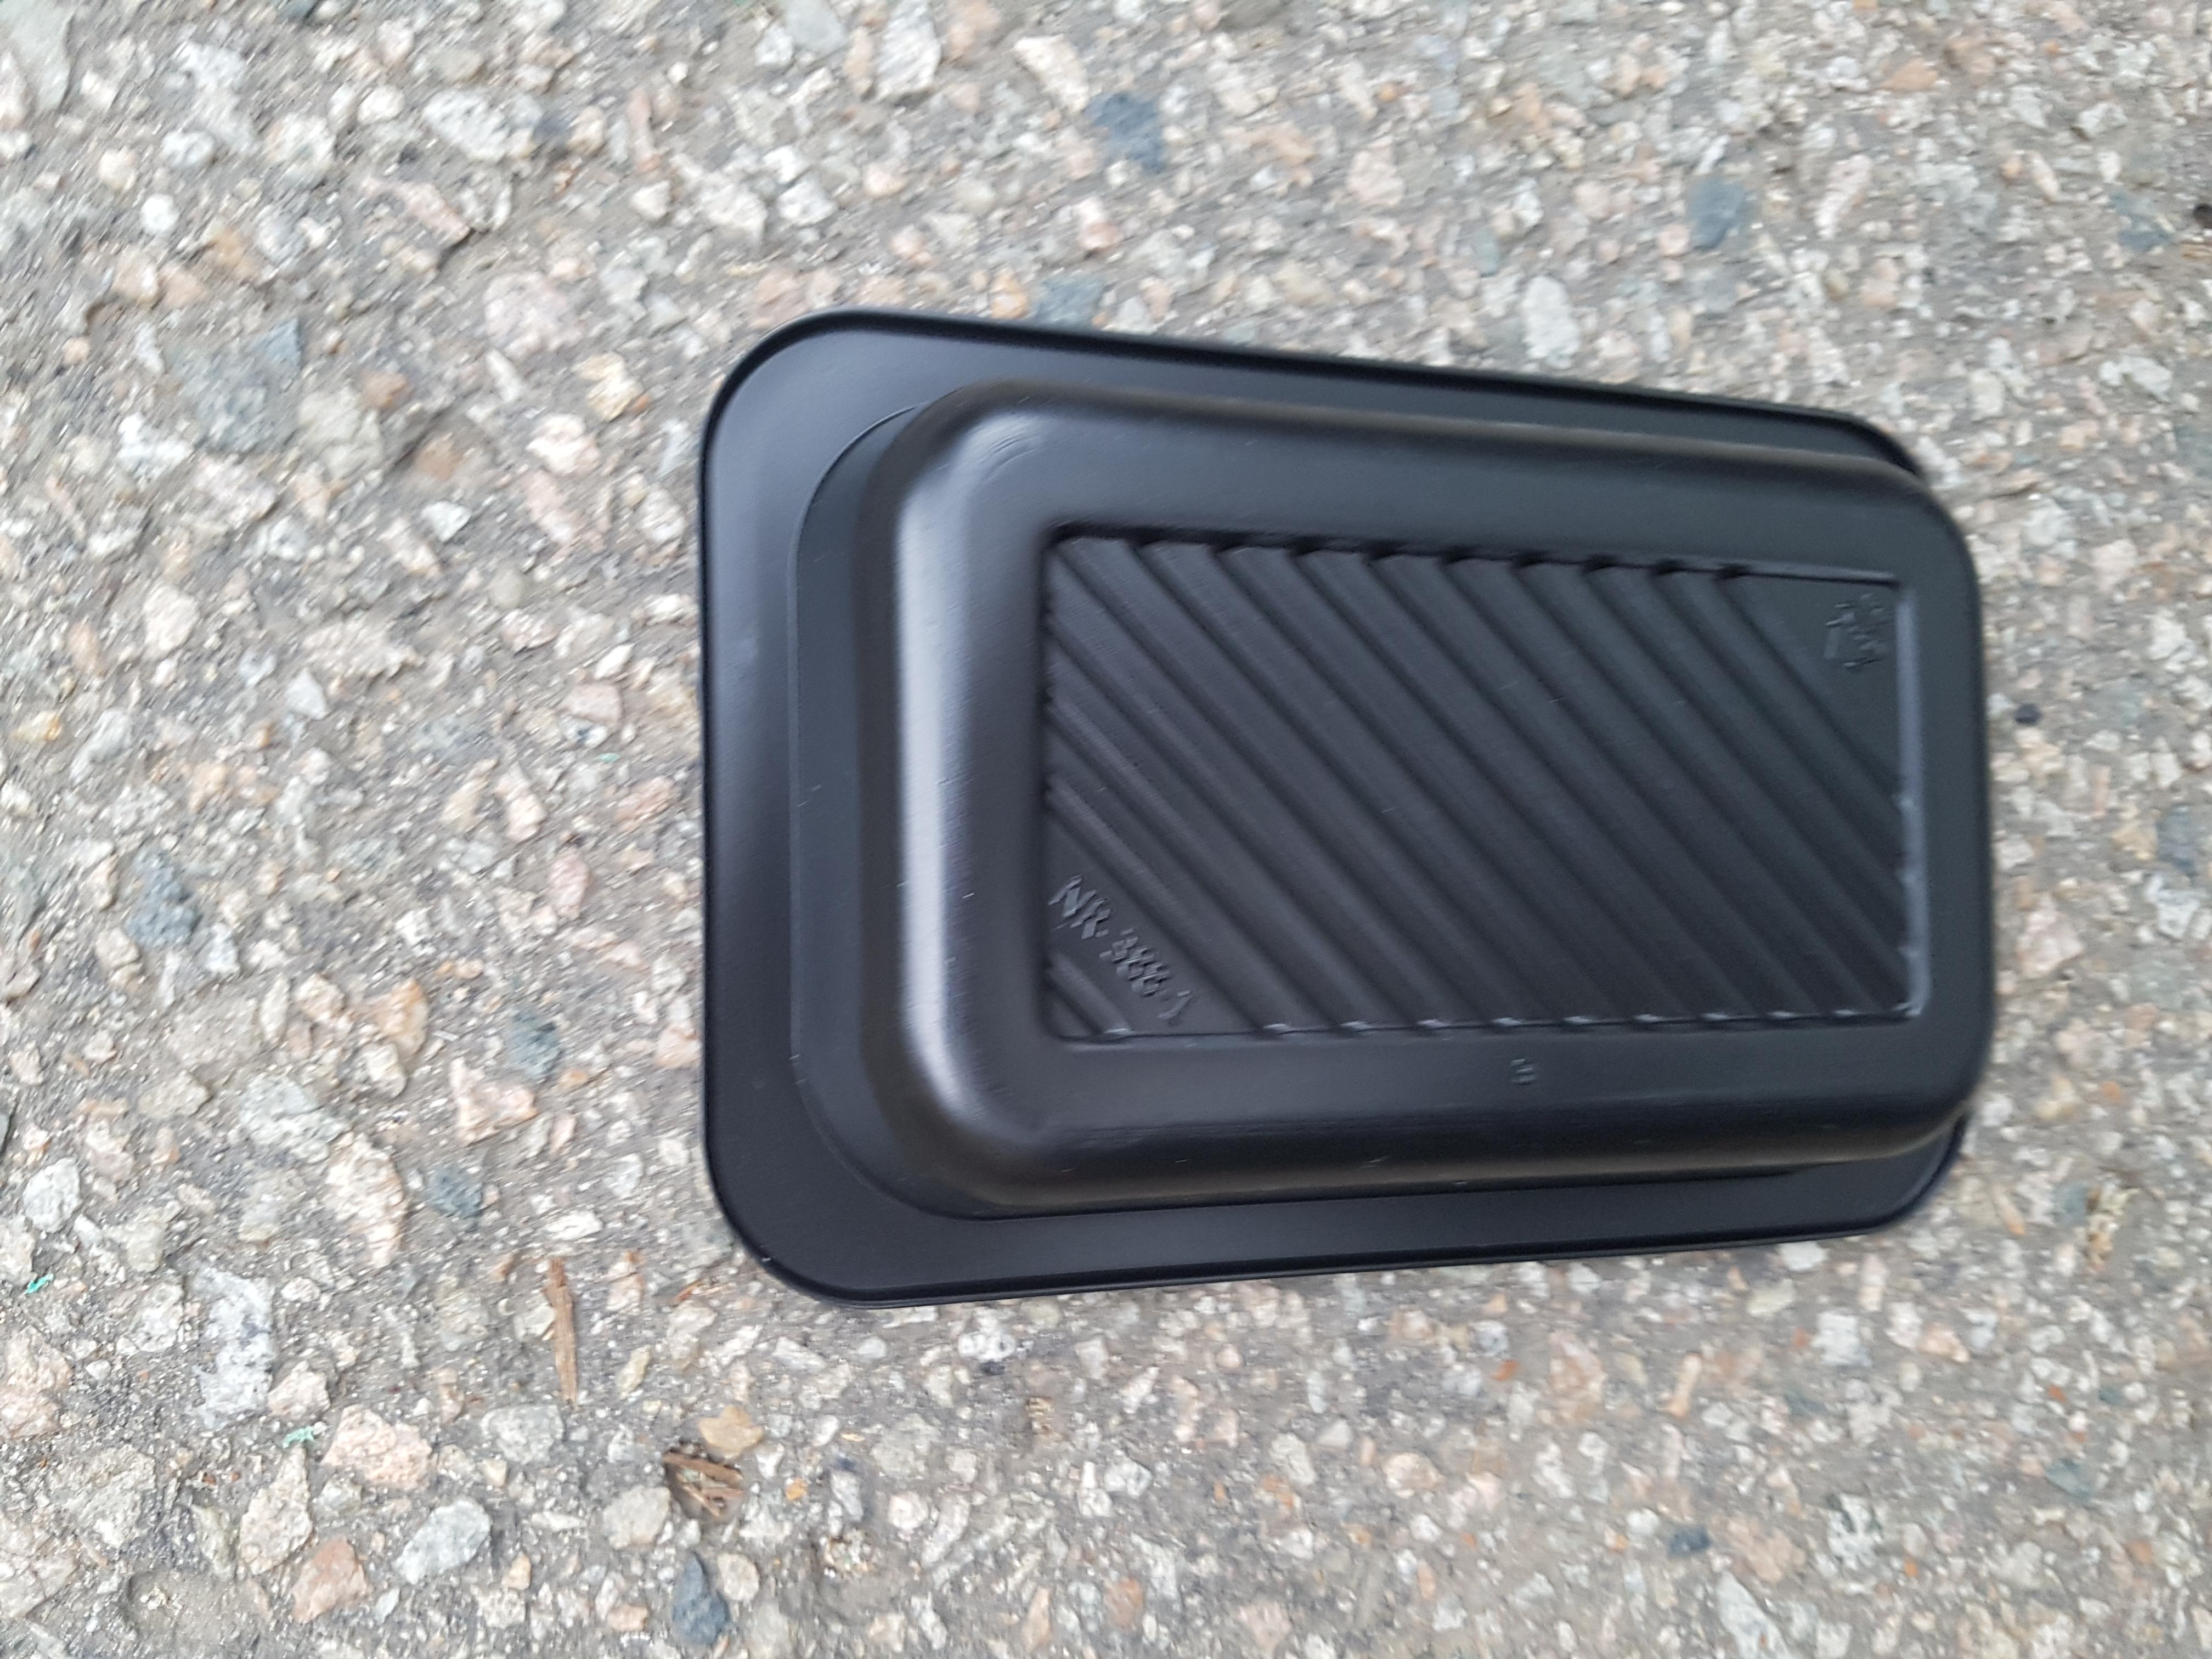bottle: (611, 258, 2029, 1441)
